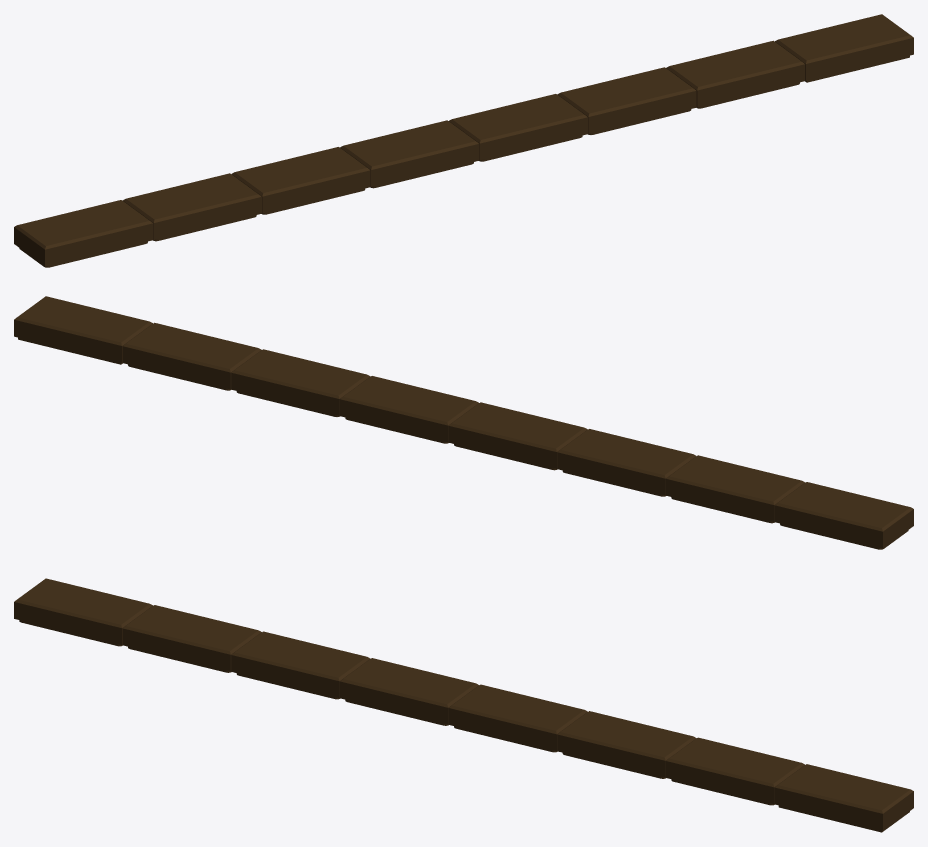
Rendered from topWall.obj.
3 renders of one model, top to bottom at view 1: azimuth 30°, elevation 25°; view 2: azimuth 150°, elevation 25°; view 3: azimuth 330°, elevation 25°, orthographic.
Visible parts, largest first — view 1: Part.17, Part.11, Part.14, Part.10, Part.15, Part.13, Part.16, Part.12; view 2: Part.17, Part.11, Part.14, Part.10, Part.15, Part.13, Part.16, Part.12; view 3: Part.10, Part.16, Part.13, Part.14, Part.11, Part.17, Part.15, Part.12.
Part boxes in pixels (x1,y1,x2,y2): Part.17: [14, 200, 153, 267]; Part.11: [666, 40, 805, 108]; Part.14: [340, 120, 479, 188]; Part.10: [775, 14, 913, 82]; Part.15: [231, 147, 370, 214]; Part.13: [449, 94, 587, 161]; Part.16: [122, 173, 261, 241]; Part.12: [557, 67, 696, 134]; Part.17: [774, 482, 913, 549]; Part.11: [122, 322, 261, 390]; Part.14: [448, 402, 587, 470]; Part.10: [14, 296, 152, 364]; Part.15: [557, 429, 696, 496]; Part.13: [340, 376, 478, 443]; Part.16: [666, 455, 805, 523]; Part.12: [231, 349, 370, 416]; Part.10: [774, 764, 913, 832]; Part.16: [122, 605, 261, 672]; Part.13: [448, 684, 587, 752]; Part.14: [340, 658, 479, 725]; Part.11: [666, 737, 804, 805]; Part.17: [14, 578, 152, 646]; Part.15: [231, 631, 370, 699]; Part.12: [557, 711, 696, 778].
Bounding box in the file's own units: 128 × 3.16 × 7.92.
